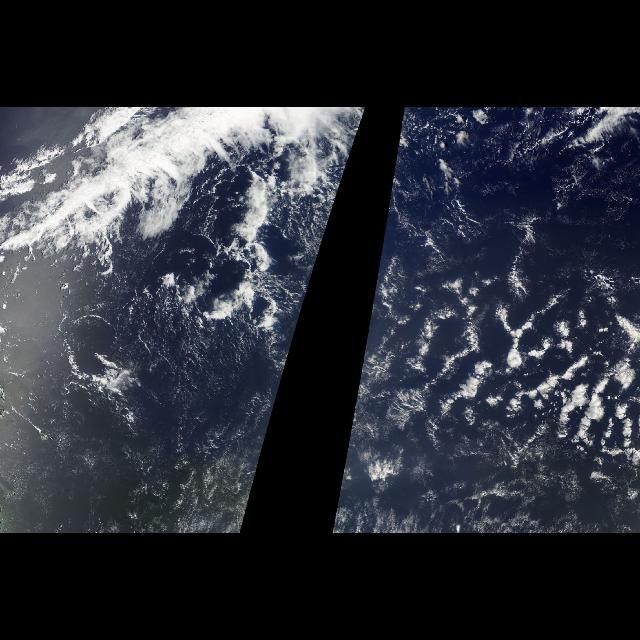Gravel: (62, 297, 278, 438)
Sugar: (2, 268, 308, 534)
